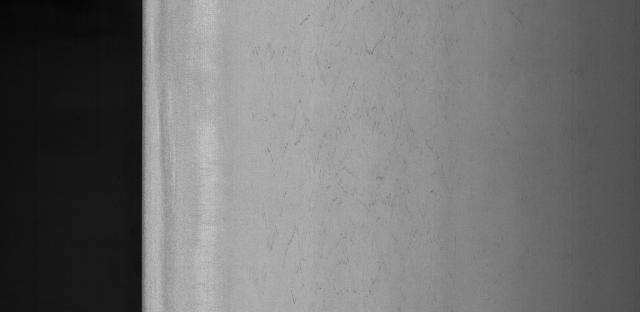silk_spot: (279, 16, 446, 274)
